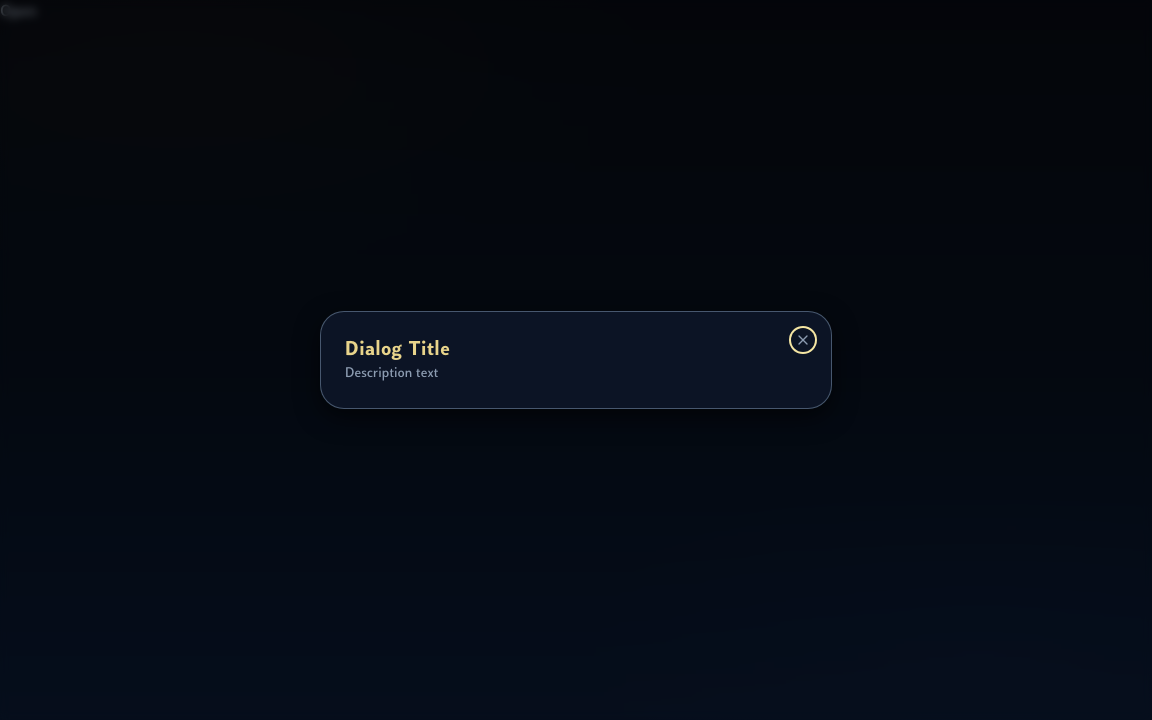
Test case: GameDialog — Equoria-o5hub.13 capability parity › native dialog parity (Equoria-rkgq9.1) › clicking the overlay backdrop closes the dialog (modal outside-dismiss)
Expected: the dialog is shown, [320,311,832,409]
Click the element with class "backdrop-blur-sm" at (69, 360), box [0,0,1151,719]
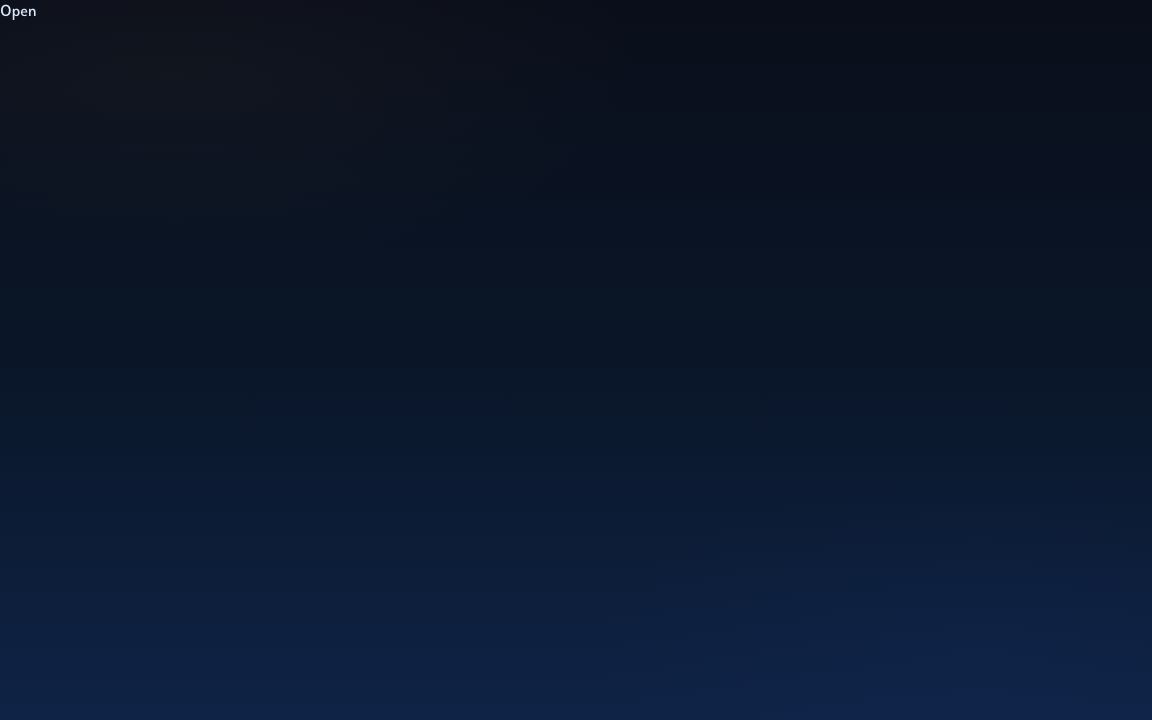
Expected: the dialog is gone
